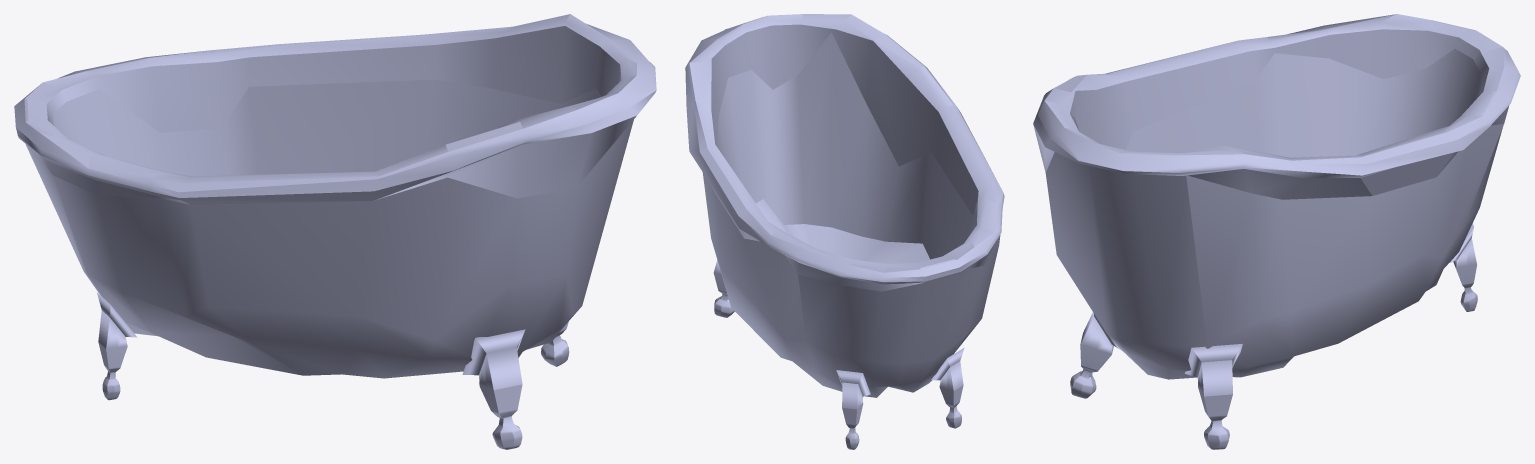
File: baignoire.fbx
3 renders of one model, left to right at view 1: azimuth 30°, elevation 25°; view 2: azimuth 150°, elevation 25°; view 3: azimuth 270°, elevation 25°, orthographic. The views are drawn at different scales.
Parts seen in each view (by area): view 1: baignoire; view 2: baignoire; view 3: baignoire.
Boxes of the visible parts, x1,y1,x2,y2 form: baignoire: [14, 14, 656, 449]; baignoire: [685, 14, 1004, 449]; baignoire: [1033, 14, 1520, 449].
Bounding box in the file's own units: 21.95 × 14.93 × 20.75.
